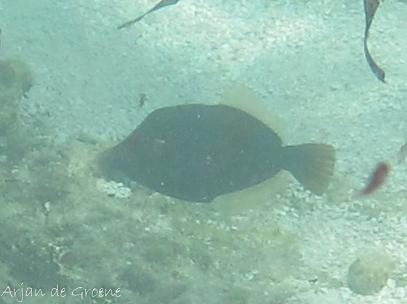Fish: (86, 70, 340, 220)
